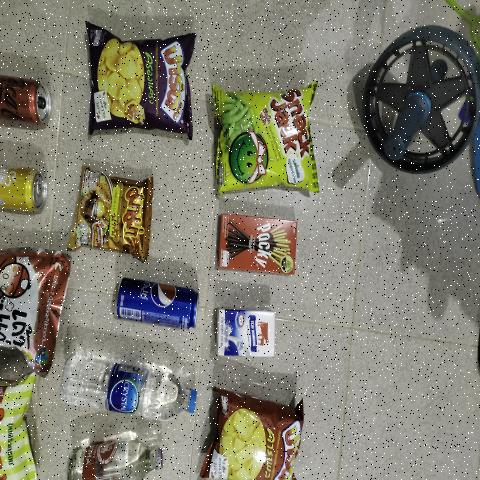crystal: (55, 355, 196, 423)
mama: (74, 179, 156, 252)
party_purple: (93, 40, 190, 132)
party_red: (205, 400, 307, 480)
pepsi_blue: (113, 288, 199, 326)
pokki: (217, 215, 297, 276)
singha_soda: (63, 439, 168, 480)
snack_jack: (213, 86, 319, 191)
thai_denmark: (214, 308, 275, 358)
